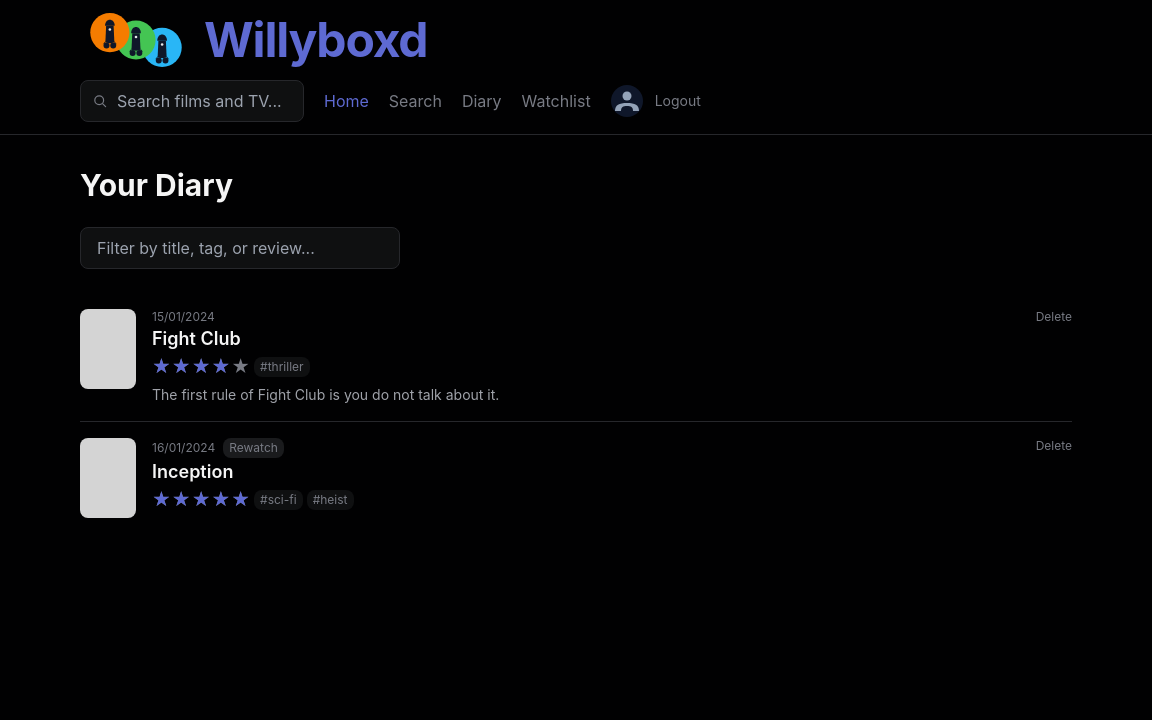
Diary › clearing the filter restores all entries
The image size is (1152, 720).
expect the link "Fight Club" is shown: met, box [152,328,241,349]
Type "inception" into the field named "Filter diary entries".
click(240, 248); type("inception")  # box [80,227,400,269]
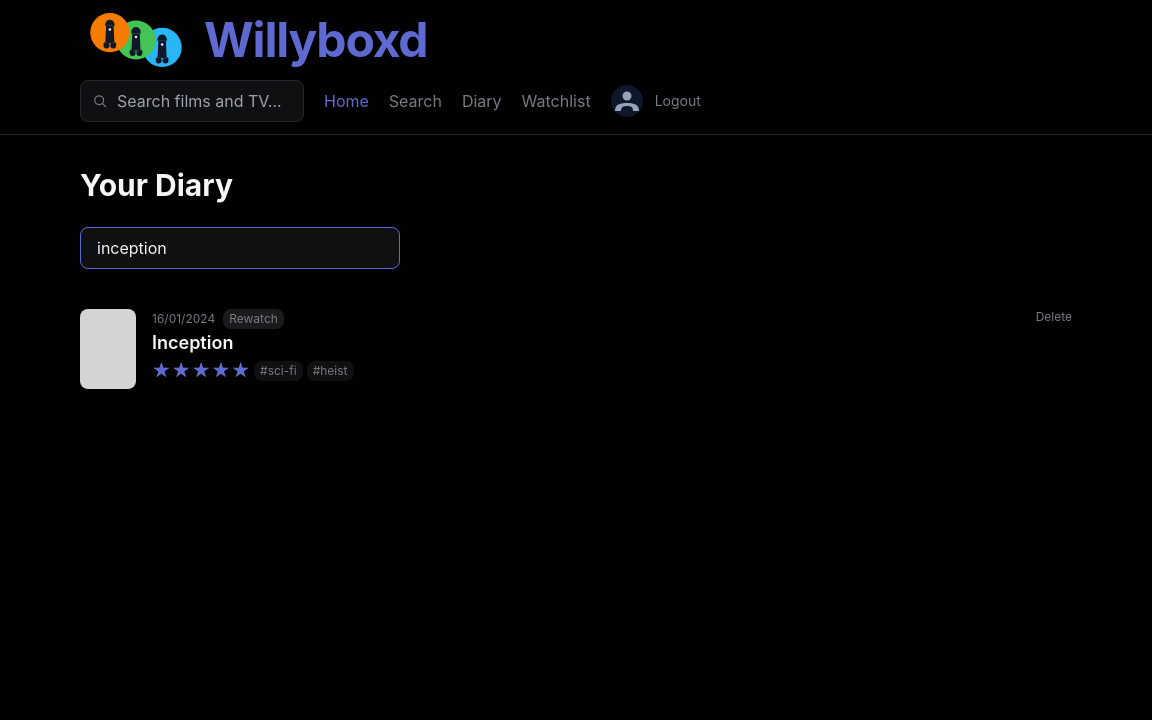
expect the link "Fight Club" is gone: met
Clear the field named "Filter diary entries" at x=240, y=248, box [80,227,400,269]
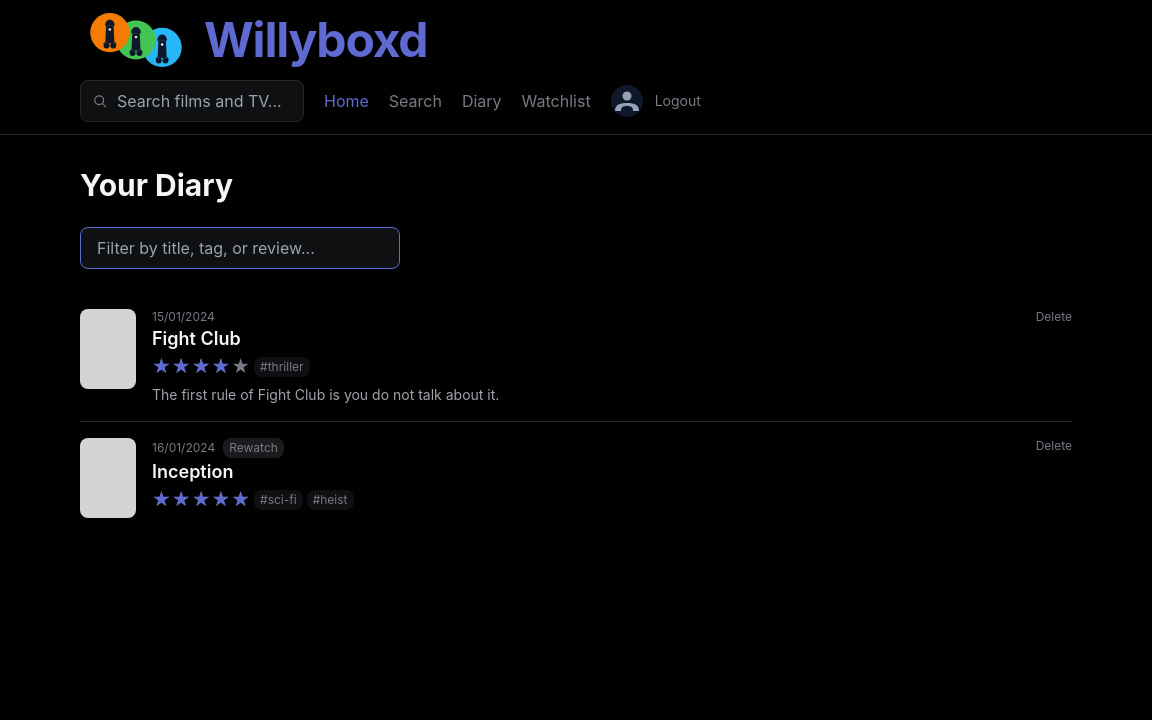
expect the link "Inception" is shown: met, box [152,461,233,482]
expect the link "Fight Club" is shown: met, box [152,328,241,349]
